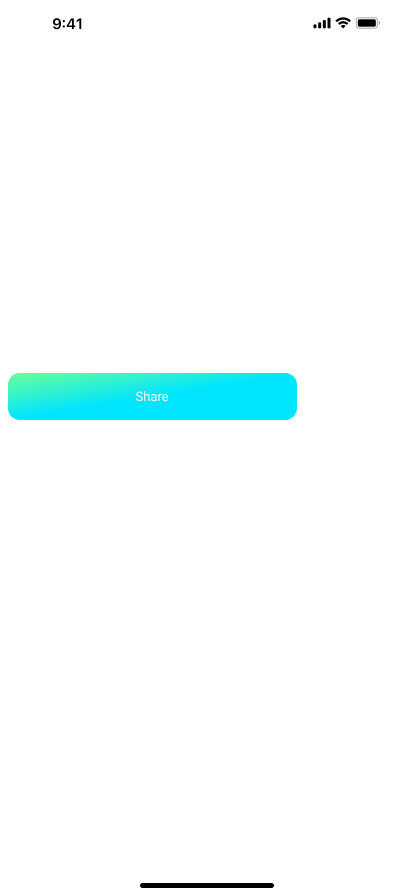Buttons: (8, 373, 297, 420)
Home Indicator: (0, 862, 414, 896)
Status Bar: (0, 0, 414, 44)
